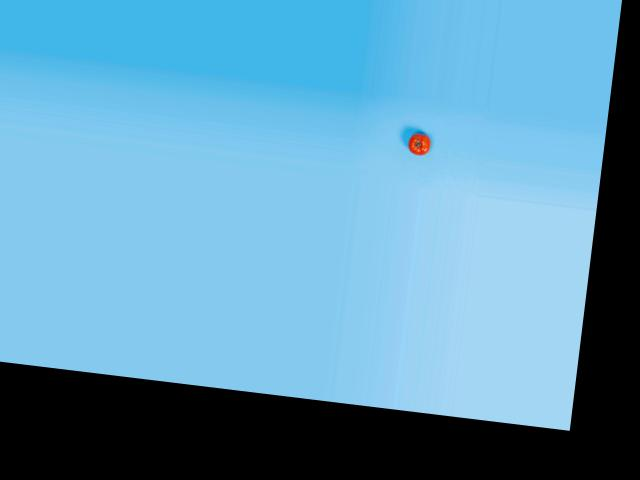tomato: (405, 132, 431, 156)
